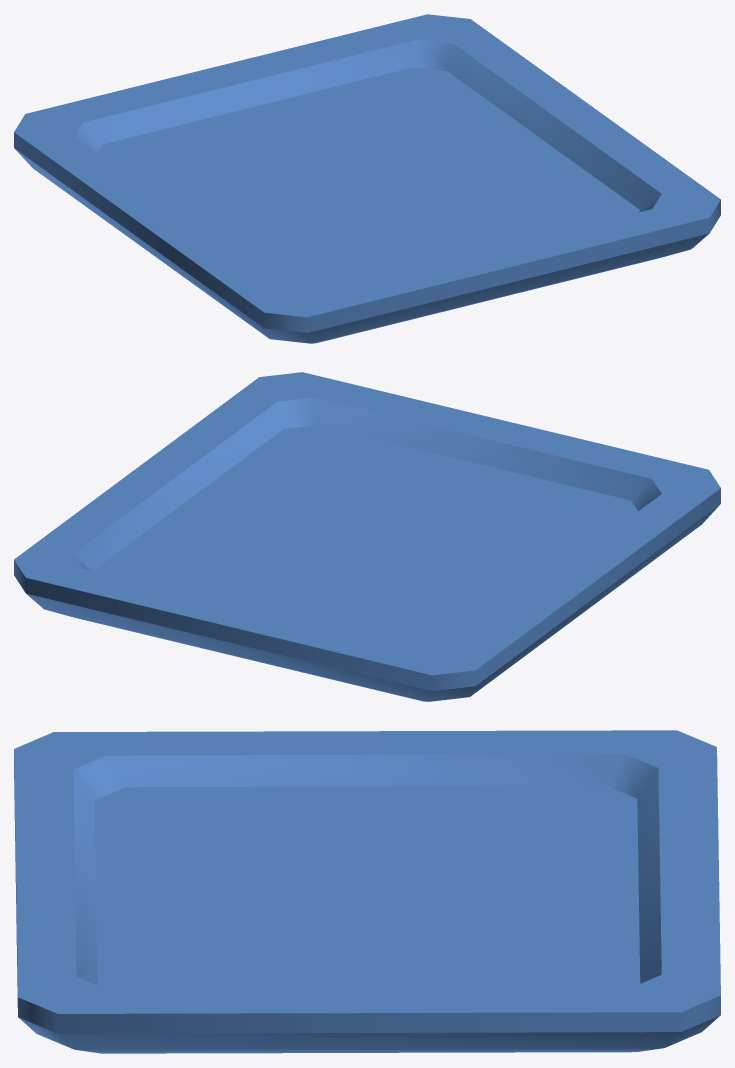
The model's file is Plate_3_C.fbx.
3 renders of one model, top to bottom at view 1: azimuth 30°, elevation 25°; view 2: azimuth 150°, elevation 25°; view 3: azimuth 270°, elevation 25°, orthographic. The views are drawn at different scales.
Parts seen in each view (by area): view 1: Plate_3_C; view 2: Plate_3_C; view 3: Plate_3_C.
Boxes of the visible parts, left/top/right/bottom form: Plate_3_C: left=14, top=14, right=720, bottom=343; Plate_3_C: left=14, top=372, right=720, bottom=701; Plate_3_C: left=14, top=730, right=720, bottom=1053.
Size of the model in its own units: 25.12 by 2.47 by 26.46.
